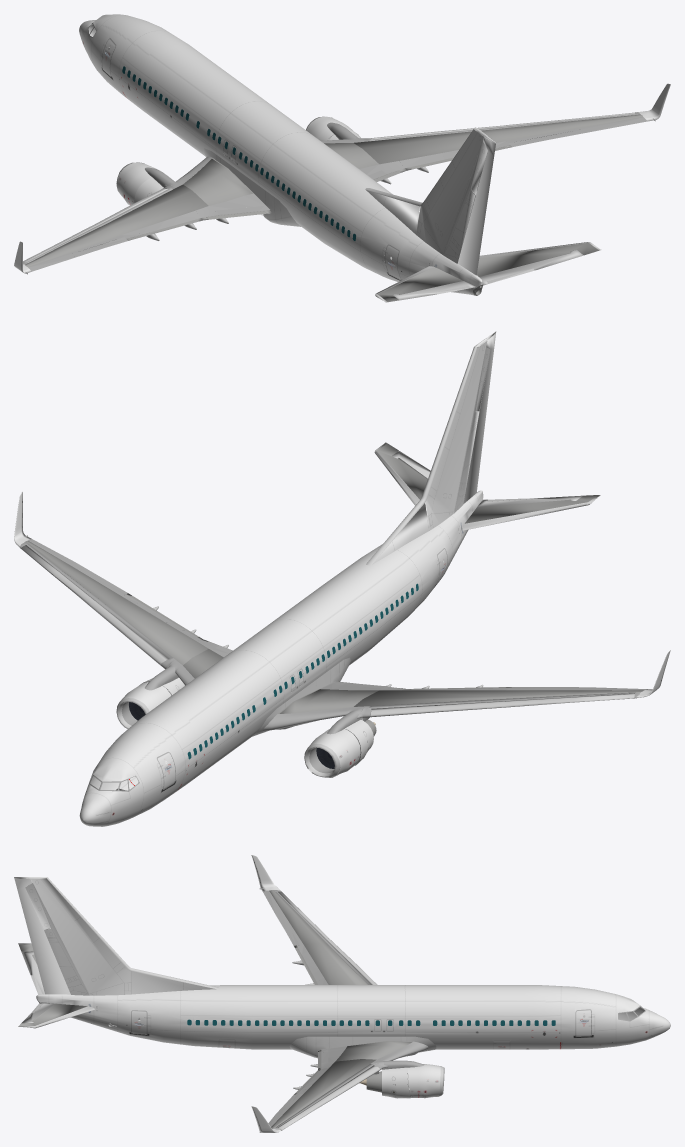
3 renders of one model, top to bottom at view 1: azimuth 30°, elevation 25°; view 2: azimuth 150°, elevation 25°; view 3: azimuth 270°, elevation 25°, orthographic. The views are drawn at different scales.
Visible parts, largest first — view 1: fuselage, vstab, obwing_001, obwing, rudder, winginbd, rhstab, lhstab, lhfairing, windowslh, engnose_001, panel1upper (+9 smaller); view 2: fuselage, vstab, obwing_001, obwing, lhstab, winginbd, rudder, vstable, rhstab, engnose_001, windowslh, ible (+3 smaller); view 3: fuselage, vstab, obwing, rudder, obwing_001, rhwtobfairing, windowsrh, No2engfancase, winginbd_001, rhstab, No2reverser, WingletL (+3 smaller).
Boxes of the visible parts, bbox=[...] form: fuselage: bbox=[79, 14, 482, 295]; vstab: bbox=[366, 127, 495, 263]; obwing_001: bbox=[354, 114, 642, 164]; obwing: bbox=[25, 184, 208, 267]; rudder: bbox=[457, 137, 495, 275]; winginbd: bbox=[183, 158, 253, 205]; rhstab: bbox=[477, 242, 600, 276]; lhstab: bbox=[375, 266, 462, 302]; lhfairing: bbox=[203, 148, 300, 226]; windowslh: bbox=[122, 66, 355, 240]; engnose_001: bbox=[116, 162, 155, 205]; panel1upper: bbox=[195, 193, 269, 217]; fuselage: bbox=[79, 490, 483, 826]; vstab: bbox=[372, 331, 496, 564]; obwing_001: bbox=[25, 541, 208, 665]; obwing: bbox=[354, 690, 643, 706]; lhstab: bbox=[462, 495, 600, 530]; winginbd: bbox=[278, 689, 378, 713]; rudder: bbox=[463, 333, 495, 503]; vstable: bbox=[366, 346, 476, 565]; rhstab: bbox=[374, 442, 427, 505]; engnose_001: bbox=[309, 729, 360, 777]; windowslh: bbox=[187, 583, 418, 759]; ible: bbox=[263, 706, 366, 731]; fuselage: bbox=[36, 985, 670, 1049]; vstab: bbox=[14, 877, 215, 995]; obwing: bbox=[269, 890, 367, 984]; rudder: bbox=[14, 878, 70, 994]; obwing_001: bbox=[271, 1059, 376, 1128]; rhwtobfairing: bbox=[289, 1036, 436, 1058]; windowsrh: bbox=[187, 1019, 555, 1025]; No2engfancase: bbox=[408, 1064, 440, 1098]; winginbd_001: bbox=[335, 1041, 412, 1061]; rhstab: bbox=[18, 1003, 94, 1028]; No2reverser: bbox=[382, 1067, 410, 1098]; WingletL: bbox=[251, 855, 280, 1132].
Size of the model in its own units: 35.69 by 12.11 by 39.42.
Materials: 51 (17 with a texture image).
